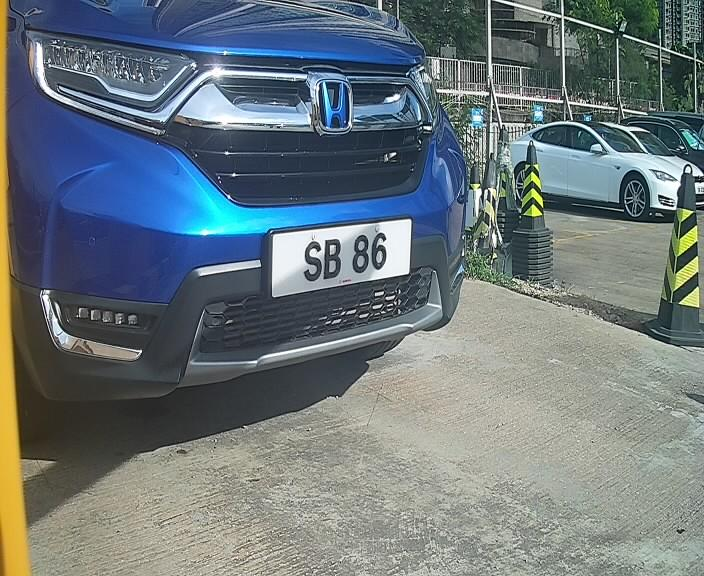License Plate: (261, 211, 415, 304)
